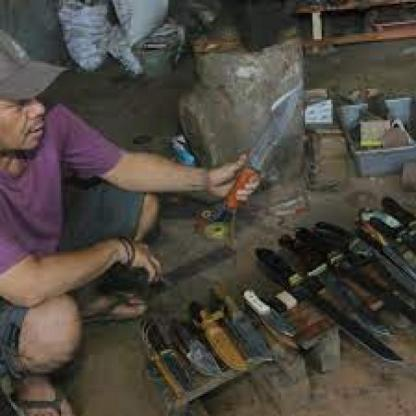Knife: (222, 60, 292, 232)
